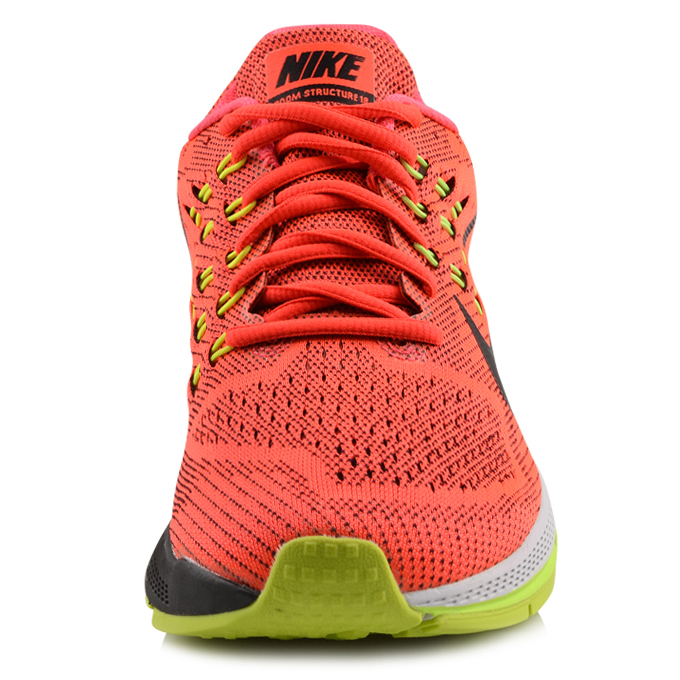Nike: (270, 48, 369, 86)
